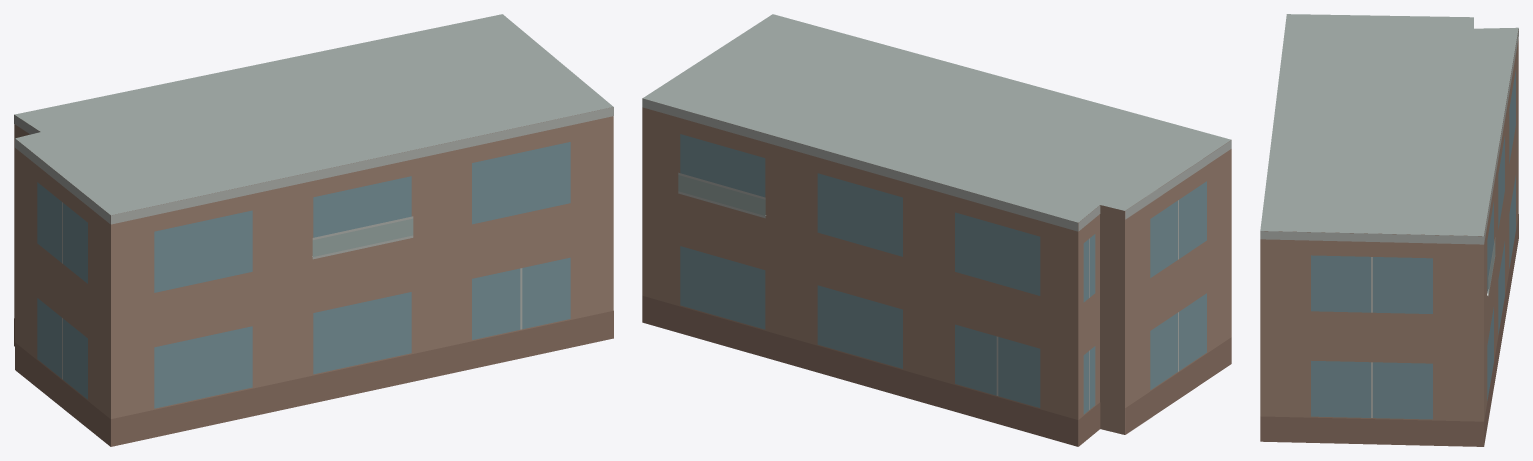
The model's file is survey-upis-32811509.glb.
3 renders of one model, left to right at view 1: azimuth 30°, elevation 25°; view 2: azimuth 150°, elevation 25°; view 3: azimuth 270°, elevation 25°, orthographic. The views are drawn at different scales.
Parts seen in each view (by area): view 1: survey-upis-32811509.tmp; view 2: survey-upis-32811509.tmp; view 3: survey-upis-32811509.tmp.
Boxes of the visible parts, bbox=[...] form: survey-upis-32811509.tmp: bbox=[14, 14, 613, 446]; survey-upis-32811509.tmp: bbox=[642, 14, 1231, 446]; survey-upis-32811509.tmp: bbox=[1260, 14, 1518, 446].
Size of the model in its own units: 13.8 by 6.1 by 6.79.
